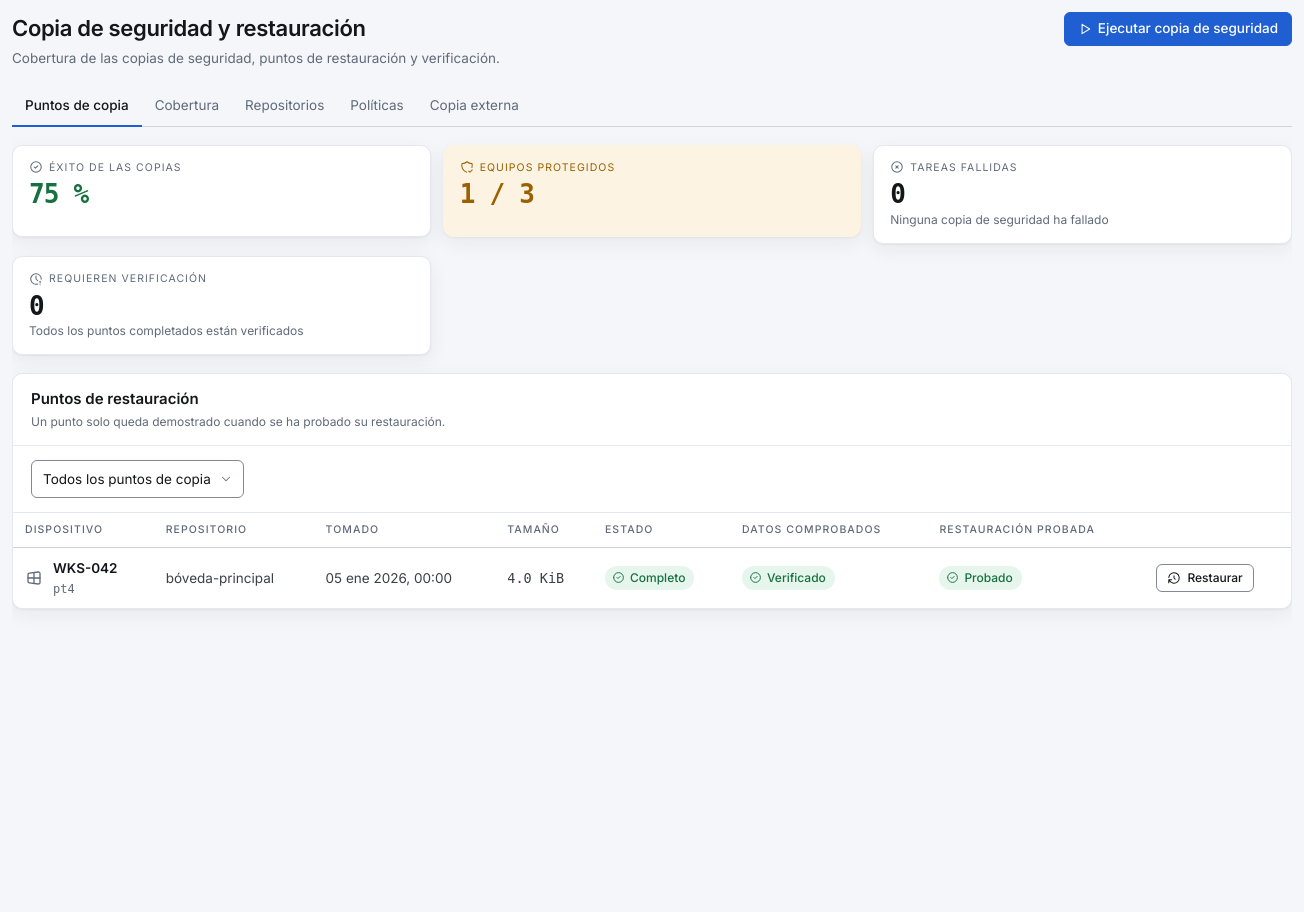
the backup points page, in Spanish › says a filter found nothing, and that no run failed
Expected: the text "pt4" is shown, top-left (53, 582), bottom-right (75, 596)
Expected: the text "Ninguna copia de seguridad ha fallado" is shown, top-left (890, 212), bottom-right (1109, 227)
Select "Pendientes de verificación" in the dropdown named "Filtrar los puntos de copia": (138, 479) top-left (31, 460), bottom-right (244, 498)
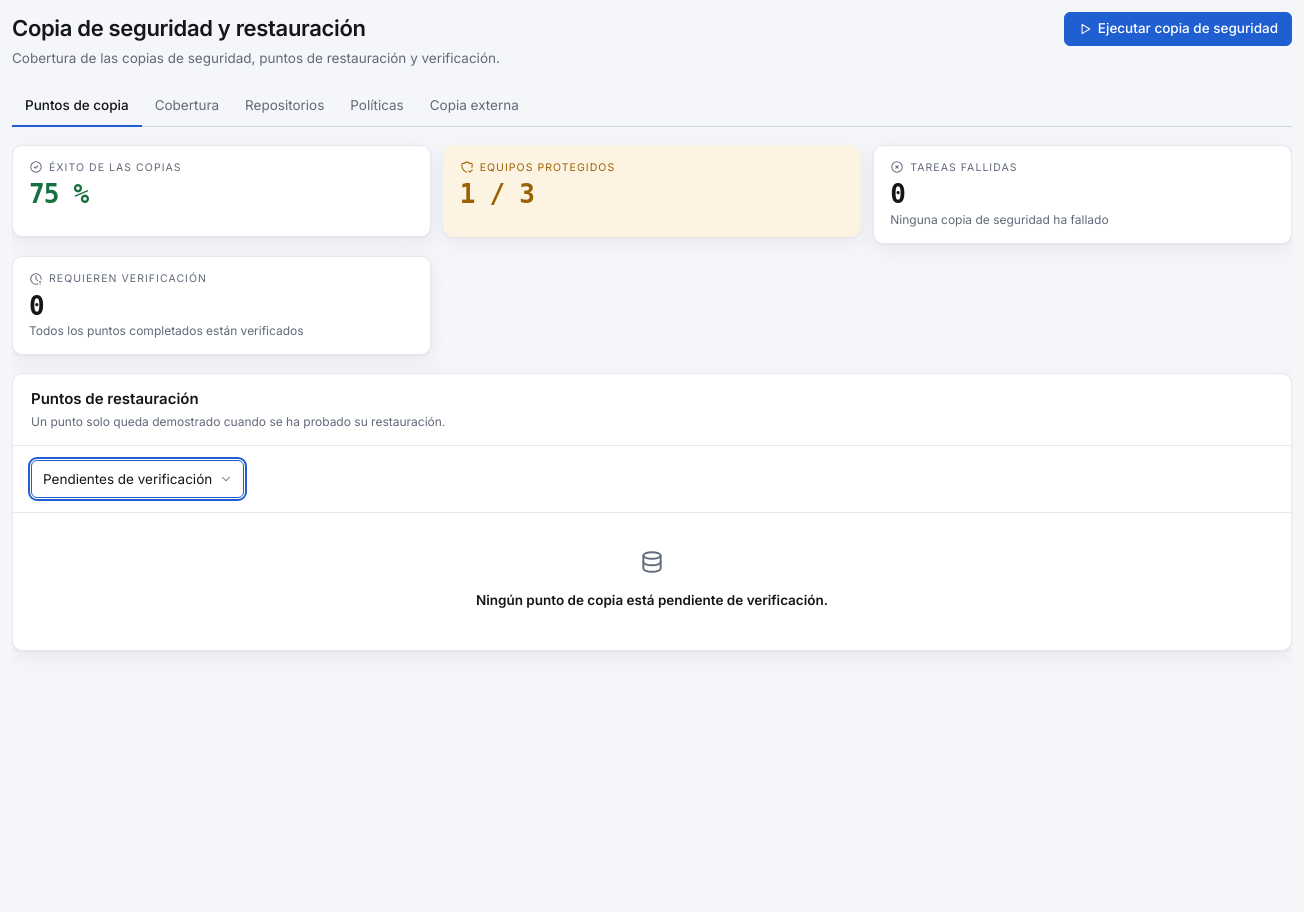
Expected: the text "Ningún punto de copia está pendiente de verificación." is shown, top-left (476, 592), bottom-right (828, 608)
